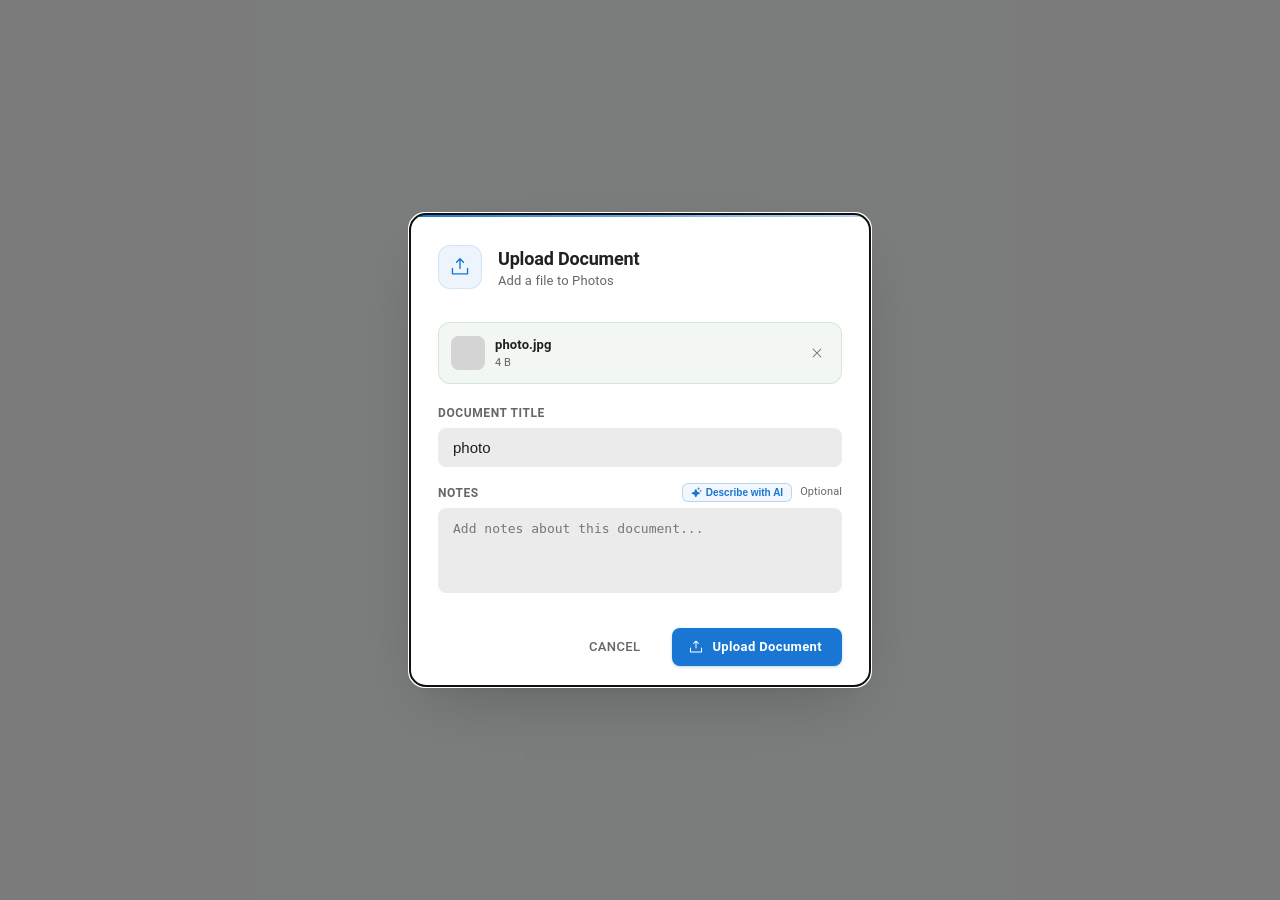
UploadDialog - Describe with AI button › shows 'Generating...' while the request is in progress
Click the button "Describe with AI": (737, 493) [682,483,792,502]
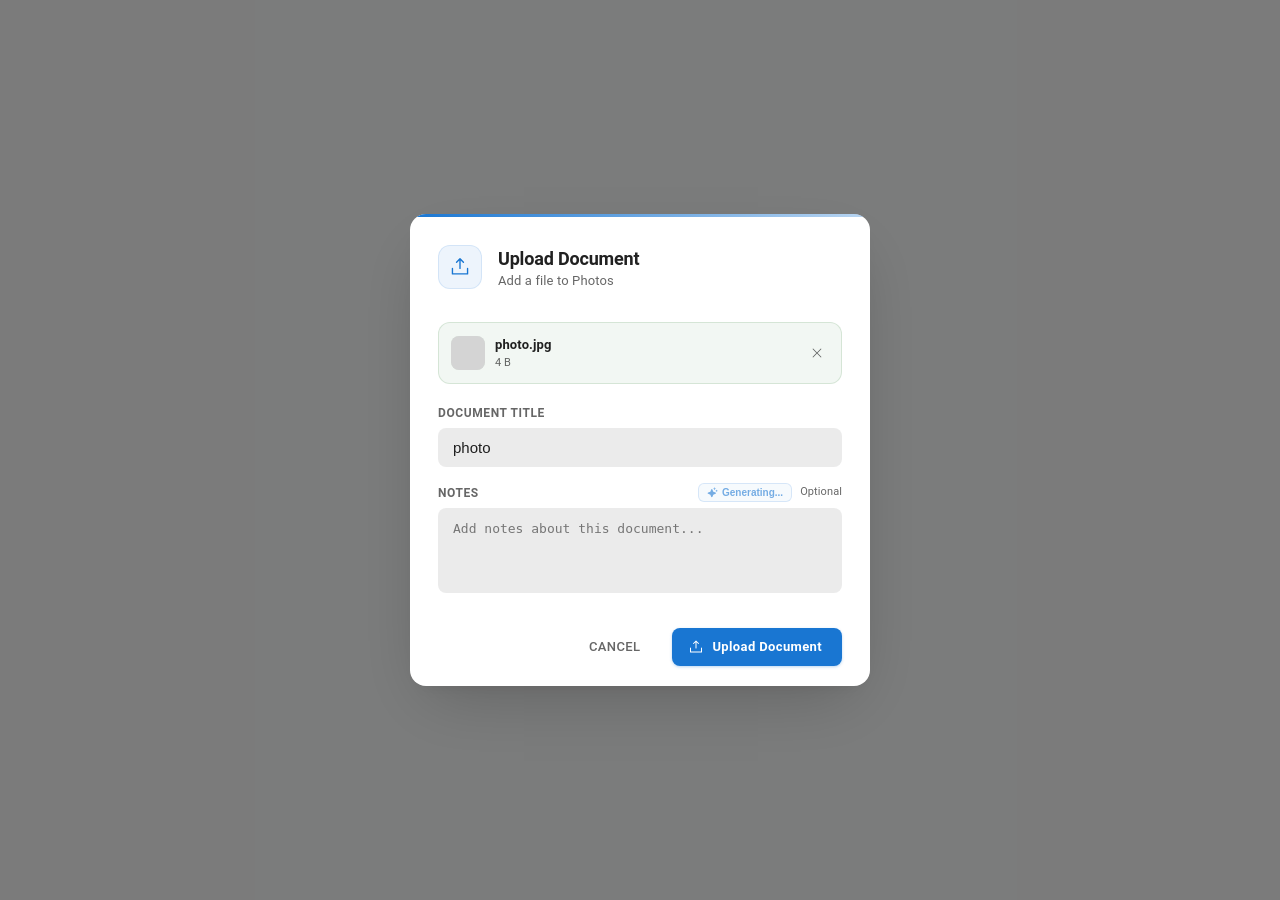
Expected: the button "Generating..." is shown, [698,483,792,502]
